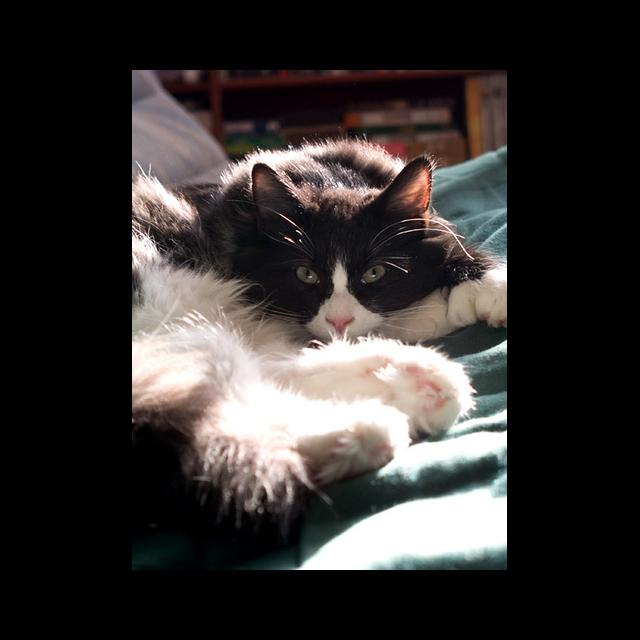animals: (260, 158, 422, 332)
